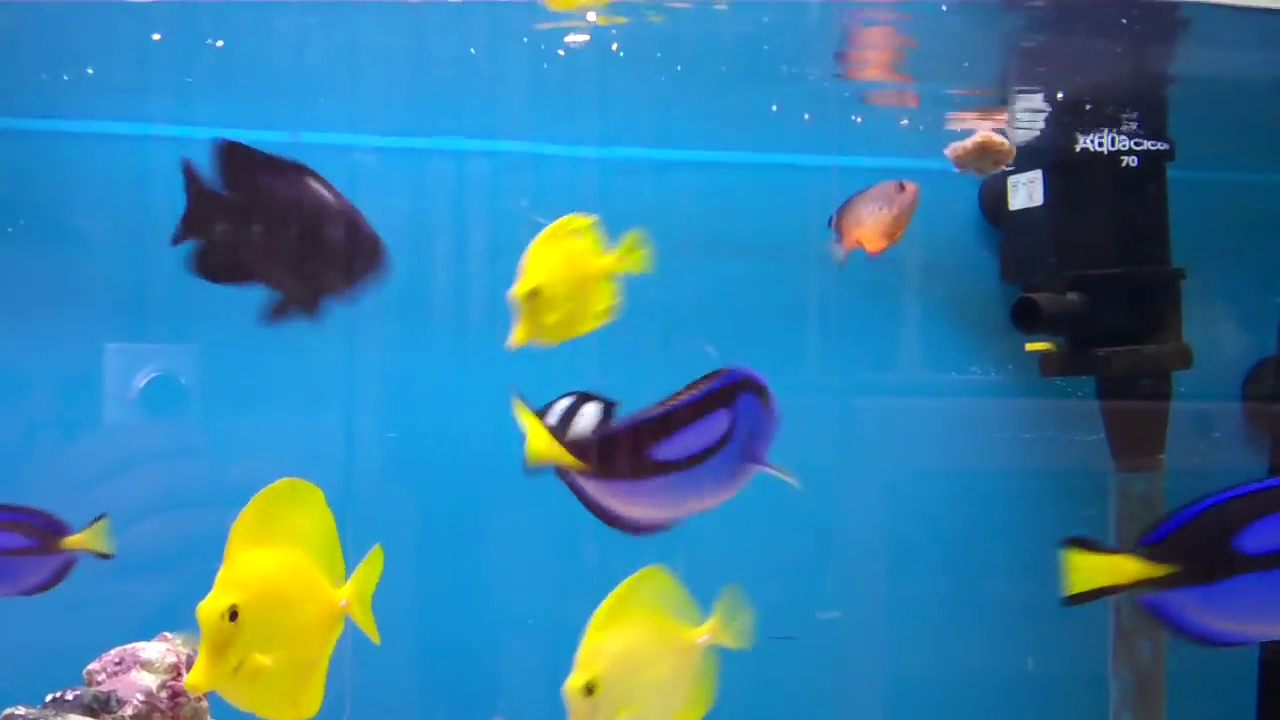blue tang surgeonfish: (1065, 454, 1280, 688), (515, 381, 808, 514), (0, 488, 123, 606)
saddle butterfly fish: (163, 469, 390, 720), (550, 554, 765, 720), (486, 183, 654, 358)
